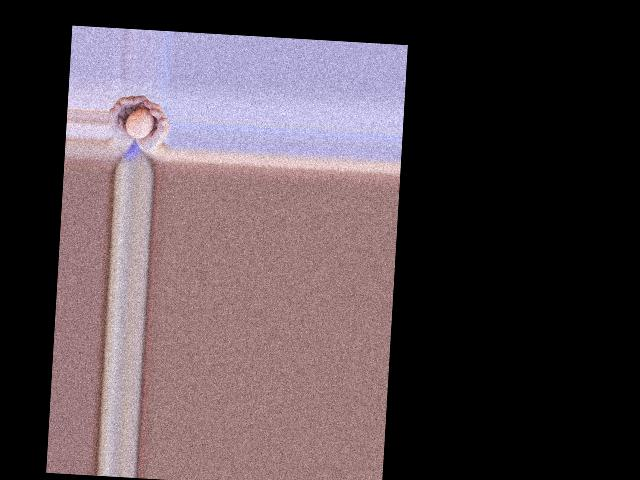egg: (124, 107, 154, 139)
